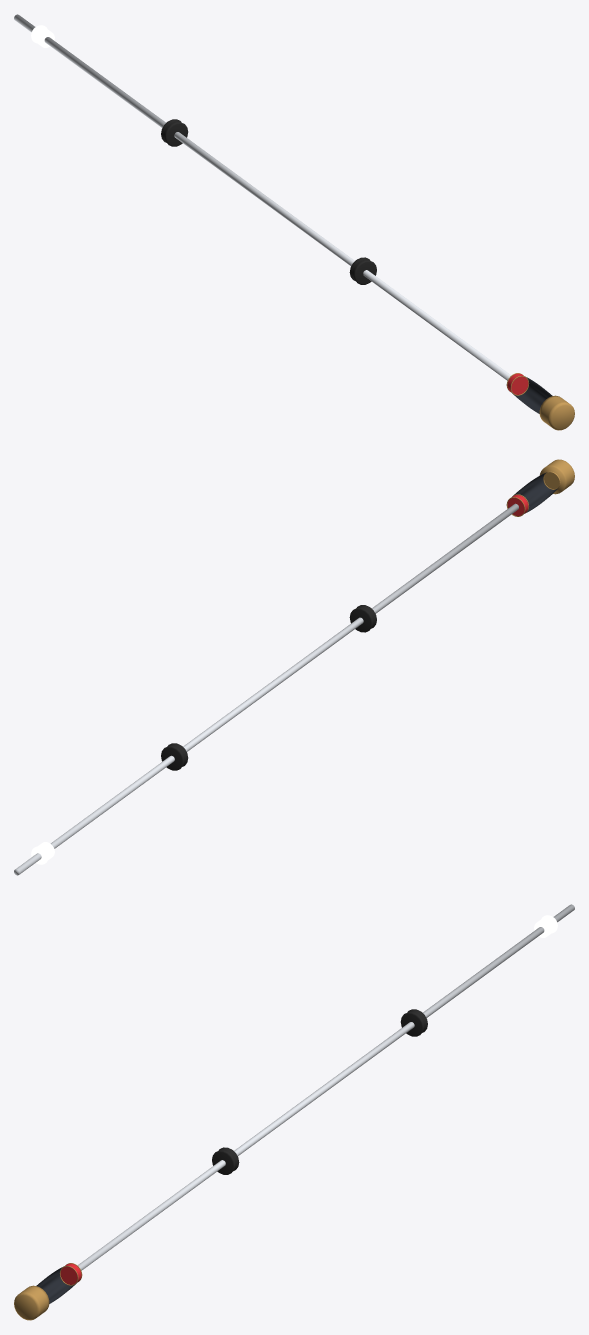
The model's file is fuzeball_rod_1man.glb.
The picture shows the model from 3 angles, top to bottom: view 1: azimuth 30°, elevation 25°; view 2: azimuth 150°, elevation 25°; view 3: azimuth 330°, elevation 25°; orthographic projection.
Visible parts, largest first — view 1: rod1_bar.002, rod1_knob.002, rod1_handle_comet_grip; view 2: rod1_bar.002, rod1_handle_comet_grip, rod1_knob.002; view 3: rod1_bar.002, rod1_knob.002, rod1_handle_comet_grip.
Boxes of the visible parts, left/top/right/bottom form: rod1_bar.002: left=14, top=14, right=511, bottom=380; rod1_knob.002: left=539, top=395, right=574, bottom=430; rod1_handle_comet_grip: left=511, top=376, right=552, bottom=413; rod1_bar.002: left=14, top=503, right=518, bottom=875; rod1_handle_comet_grip: left=508, top=472, right=557, bottom=515; rod1_knob.002: left=539, top=459, right=574, bottom=494; rod1_bar.002: left=77, top=904, right=574, bottom=1270; rod1_knob.002: left=14, top=1285, right=49, bottom=1320; rod1_handle_comet_grip: left=36, top=1266, right=77, bottom=1303.
Bounding box in the file's own units: 3.4 × 3.4 × 124.
